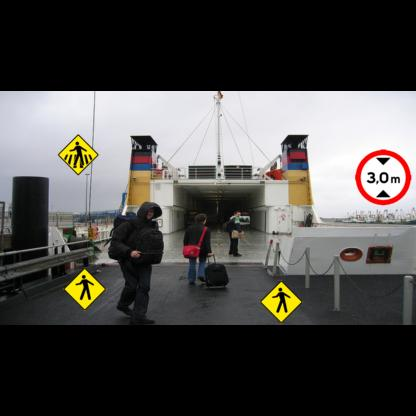A-32a: (63, 268, 106, 311), (260, 280, 303, 323)
A-32b: (57, 134, 99, 176)
R-15: (355, 150, 411, 205)
